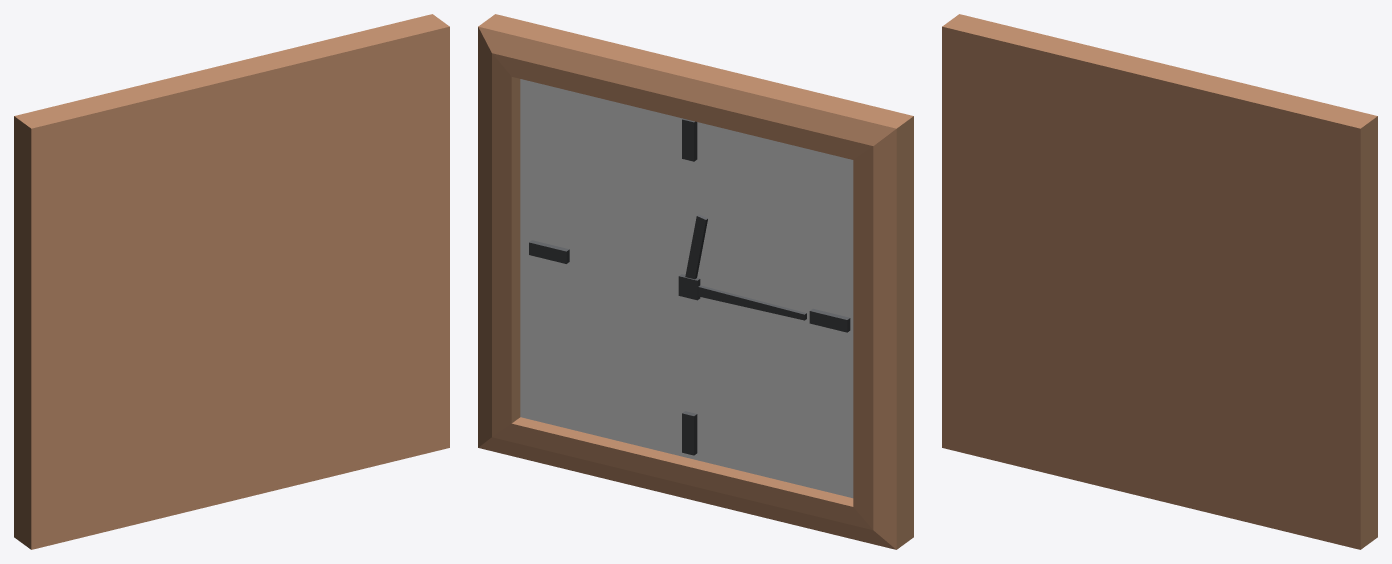
The model's file is SO_Clock.fbx.
3 renders of one model, left to right at view 1: azimuth 30°, elevation 25°; view 2: azimuth 150°, elevation 25°; view 3: azimuth 330°, elevation 25°, orthographic.
Visible parts, largest first — view 1: clock_1; view 2: clock_1; view 3: clock_1.
Part boxes in pixels (bbox=[...]): clock_1: bbox=[14, 14, 449, 549]; clock_1: bbox=[478, 14, 913, 549]; clock_1: bbox=[942, 14, 1377, 549].
Size of the model in its own units: 37.57 by 3.44 by 36.15.
1 material, 1 textured.
